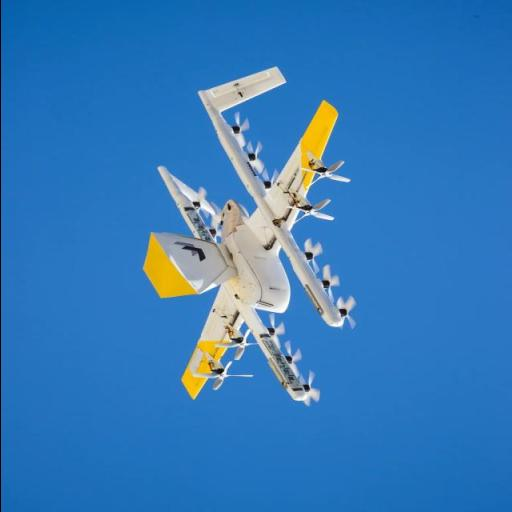uav: (142, 62, 366, 424)
